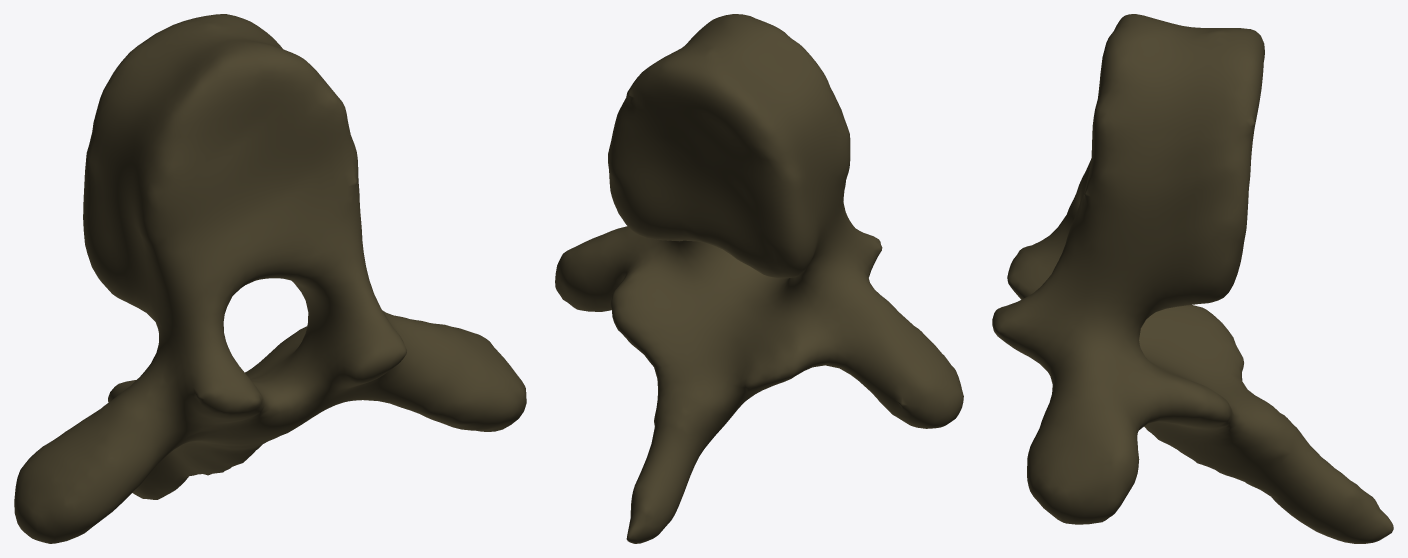
The model's file is segmentations_vertebrae_T6.obj.
3 views of the same model, side by side, from view 1: azimuth 30°, elevation 25°; view 2: azimuth 150°, elevation 25°; view 3: azimuth 270°, elevation 25° (orthographic). The views are drawn at different scales.
Parts seen in each view (by area): view 1: grp1; view 2: grp1; view 3: grp1.
Part boxes in pixels (<box>): grp1: <box>14,14,526,543</box>; grp1: <box>555,14,963,543</box>; grp1: <box>992,14,1393,543</box>.
Bounding box in the file's own units: 42.87 × 45.44 × 32.05.
